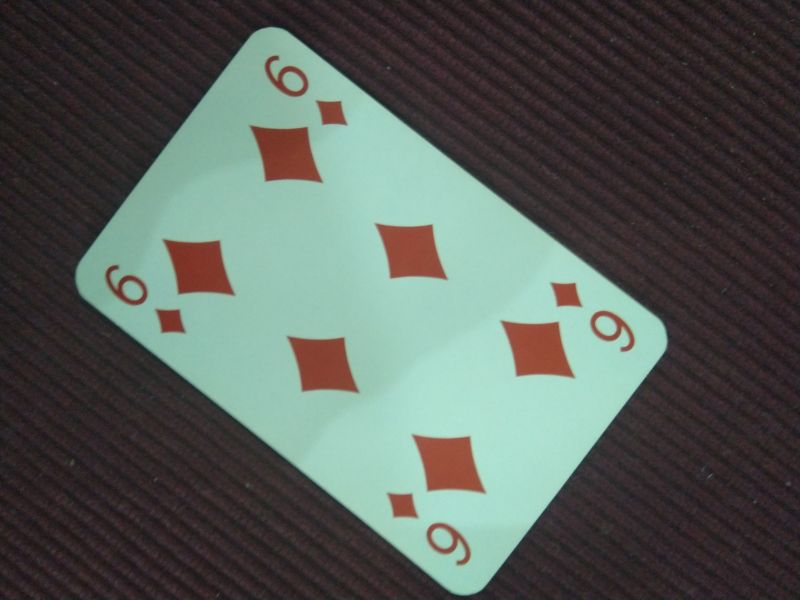6d: (381, 485, 476, 568), (258, 50, 354, 132), (544, 275, 640, 356), (99, 258, 191, 340)
